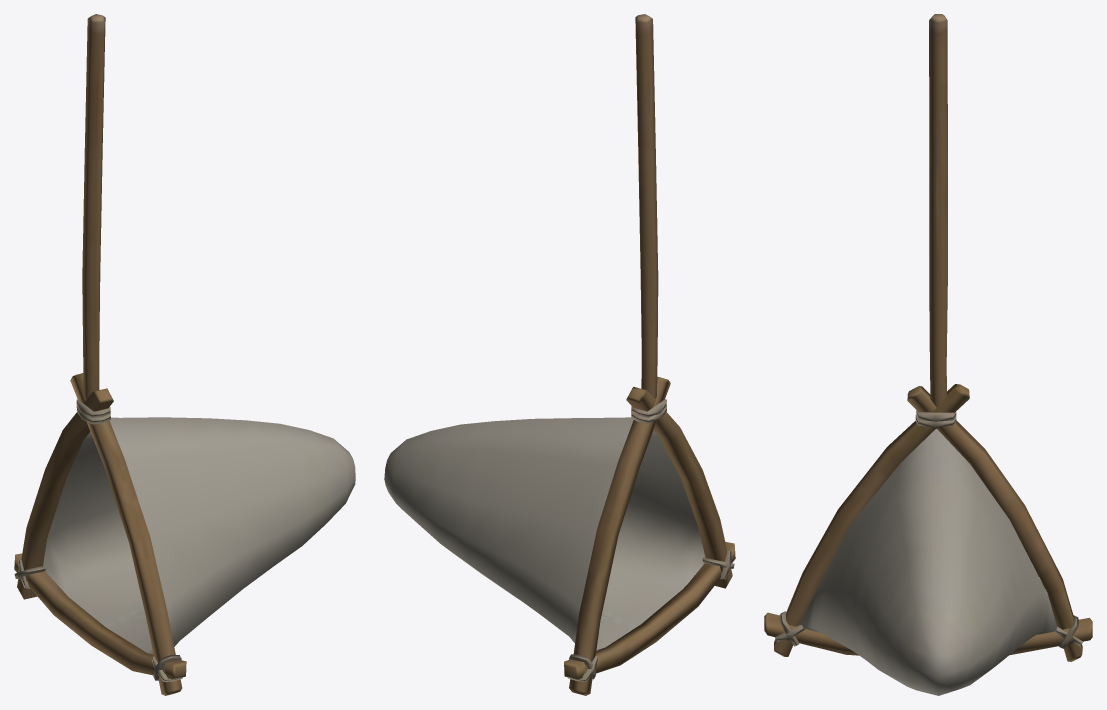
Rendered from net.glb.
3 renders of one model, left to right at view 1: azimuth 30°, elevation 25°; view 2: azimuth 150°, elevation 25°; view 3: azimuth 270°, elevation 25°, orthographic. The views are drawn at different scales.
Size of the model in its own units: 7.42 by 16.25 by 7.5.
Materials: 1 (1 with a texture image).
